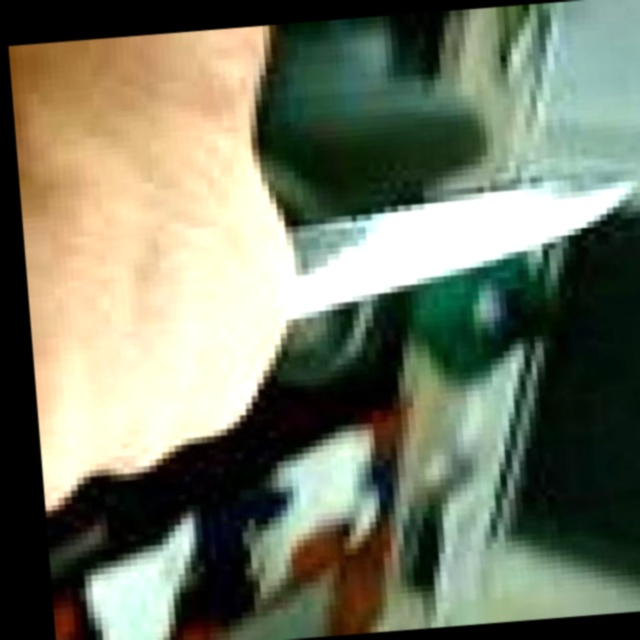Sharp-Object: (283, 177, 640, 322)
